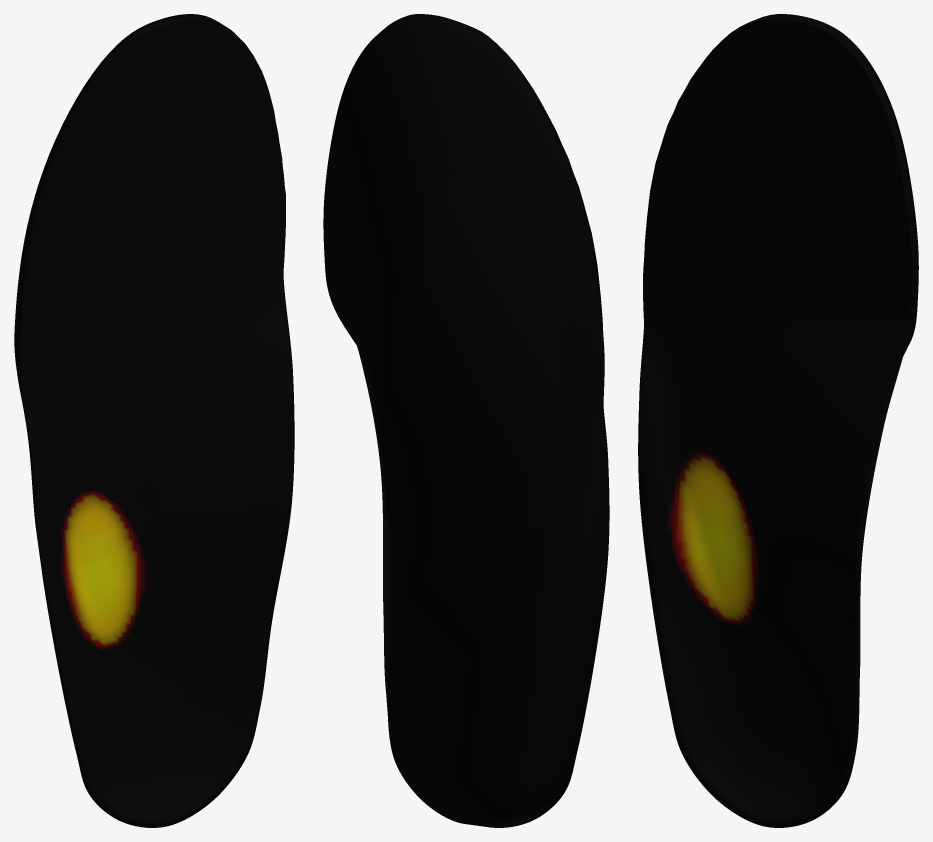
Rendered from CPO-306901_LEFT.glb.
The picture shows the model from 3 angles, left to right: view 1: azimuth 30°, elevation 25°; view 2: azimuth 150°, elevation 25°; view 3: azimuth 330°, elevation 25°; orthographic projection. The views are drawn at different scales.
Visible parts, largest first — view 1: geometry_0; view 2: geometry_0; view 3: geometry_0.
Boxes of the visible parts, x1,y1,x2,y2 form: geometry_0: (14, 14, 294, 827); geometry_0: (323, 14, 609, 827); geometry_0: (638, 14, 918, 827).
Size of the model in its own units: 104 by 296 by 23.36.
